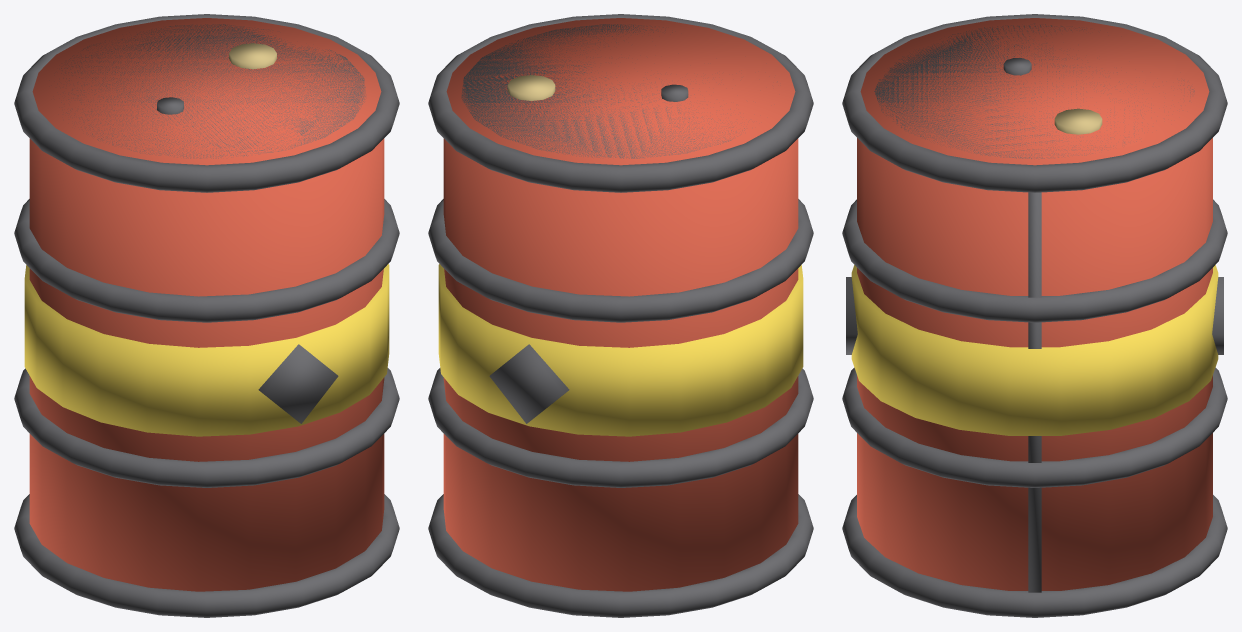
File: hazard-barrel.glb
The picture shows the model from 3 angles, left to right: view 1: azimuth 30°, elevation 25°; view 2: azimuth 150°, elevation 25°; view 3: azimuth 270°, elevation 25°; orthographic projection.
Visible parts, largest first — view 1: Drum, WarningBand, BungCap; view 2: Drum, WarningBand, BungCap; view 3: Drum, WarningBand, BungCap.
Boxes of the visible parts, box(x1,y1,x2,y2) form: Drum: box(14, 14, 399, 617); WarningBand: box(24, 264, 389, 436); BungCap: box(157, 43, 276, 114); Drum: box(428, 14, 813, 617); WarningBand: box(438, 264, 803, 436); BungCap: box(507, 75, 688, 101); Drum: box(842, 14, 1227, 617); WarningBand: box(846, 265, 1223, 435); BungCap: box(1003, 58, 1102, 134).
Size of the model in its own units: 0.888 by 1.16 by 0.888.
